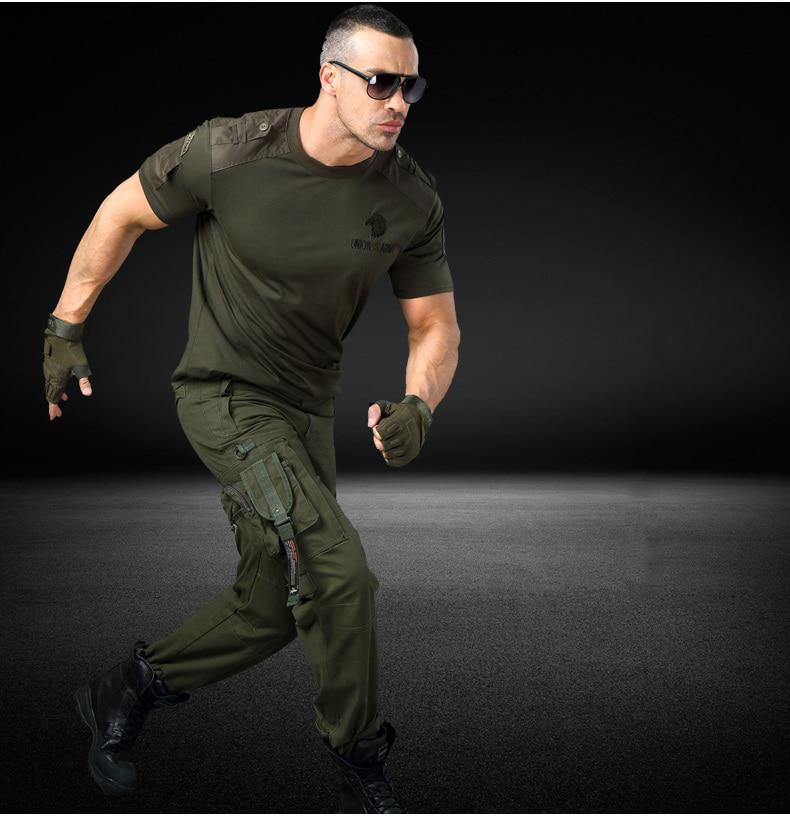pants: (100, 379, 396, 746)
